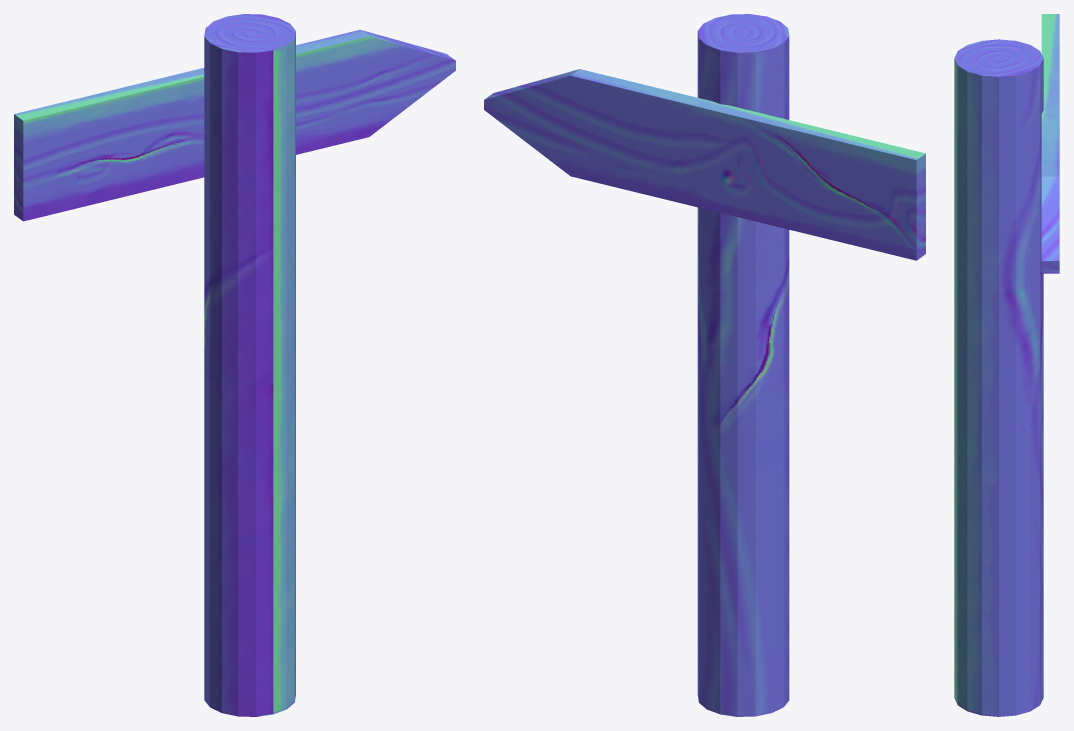
The model's file is SM_SignSingle.fbx.
3 views of the same model, side by side, from view 1: azimuth 30°, elevation 25°; view 2: azimuth 150°, elevation 25°; view 3: azimuth 270°, elevation 25° (orthographic). The views are drawn at different scales.
Visible parts, largest first — view 1: Cylinder.001; view 2: Cylinder.001; view 3: Cylinder.001.
Boxes of the visible parts, box(x1,y1,x2,y2) form: Cylinder.001: box(14, 14, 455, 716); Cylinder.001: box(484, 14, 925, 716); Cylinder.001: box(954, 14, 1059, 716).
Size of the model in its own units: 54 by 79.24 by 11.8.
